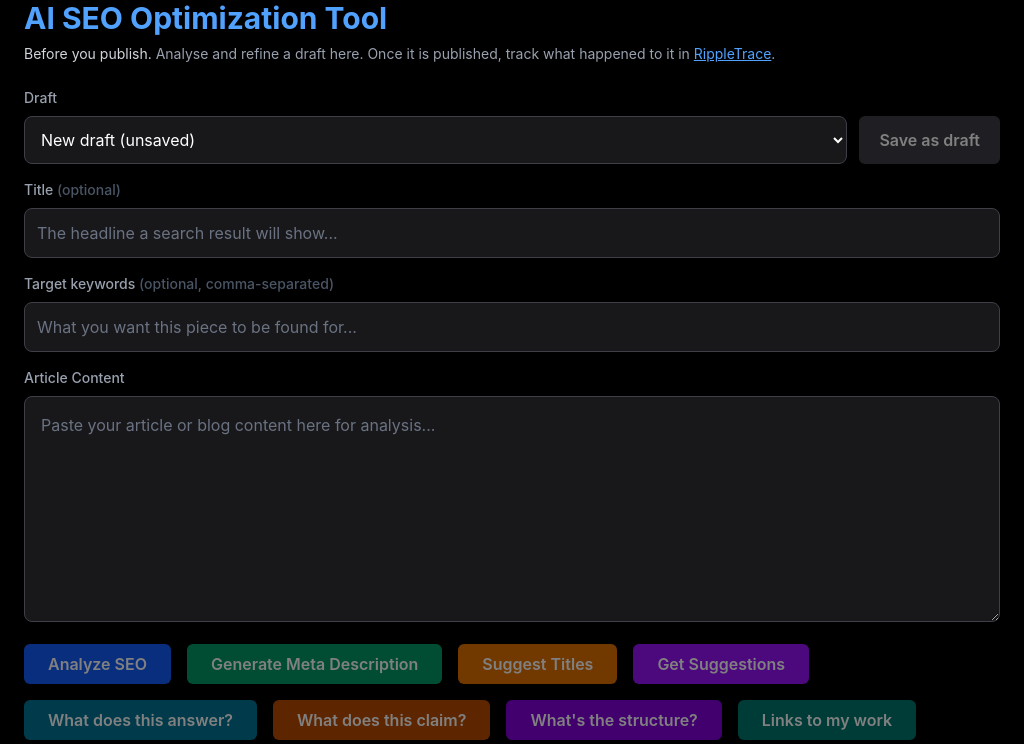
Test: SEO tool: what the article answers, and links to your work › shows a failure as a failure, never as an empty list
In the text box with placeholder "Paste your article or blog content here for analysis...": {"x": 512, "y": 509} [24,396,1000,622], type "An agent is a loop that plans, acts and checks its own results."
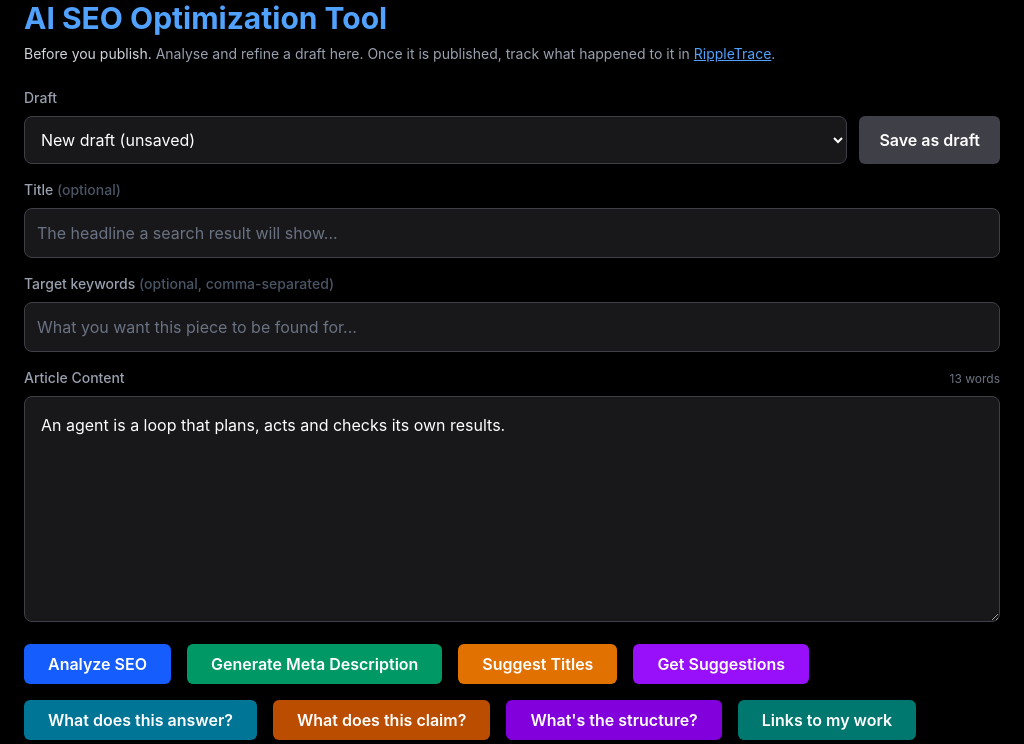
Click the button "What does this answer?": {"x": 140, "y": 720} [24,700,257,740]
(page scrolled)
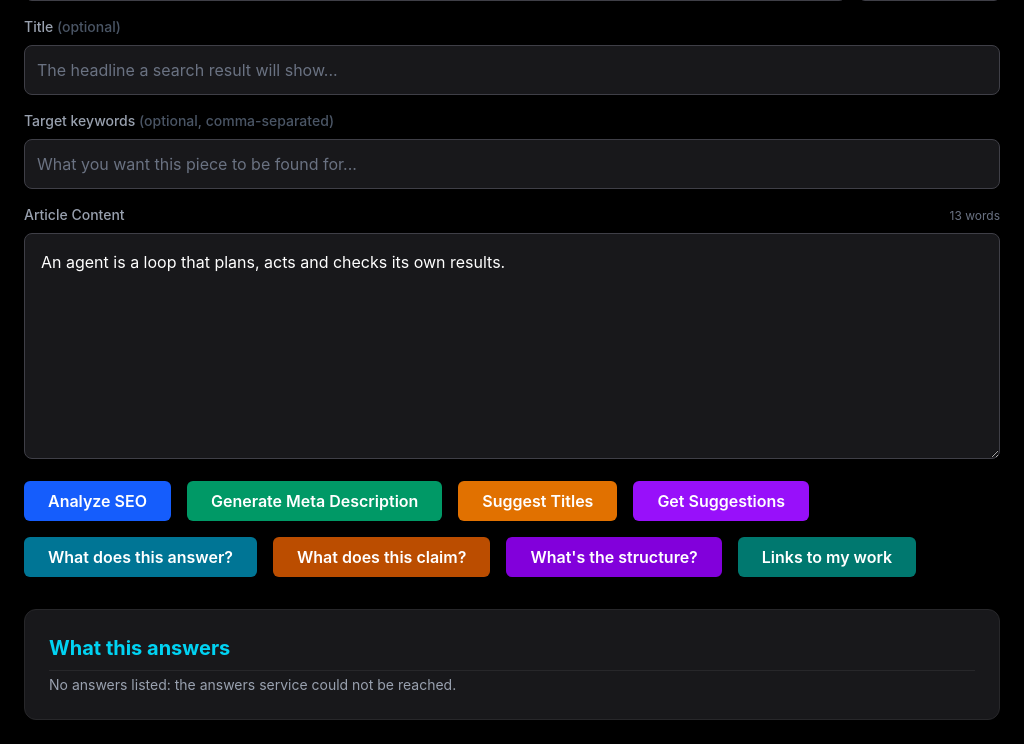
Check: the element with test id "article-answers" shows "could not be reached", box [175,676,452,693]
